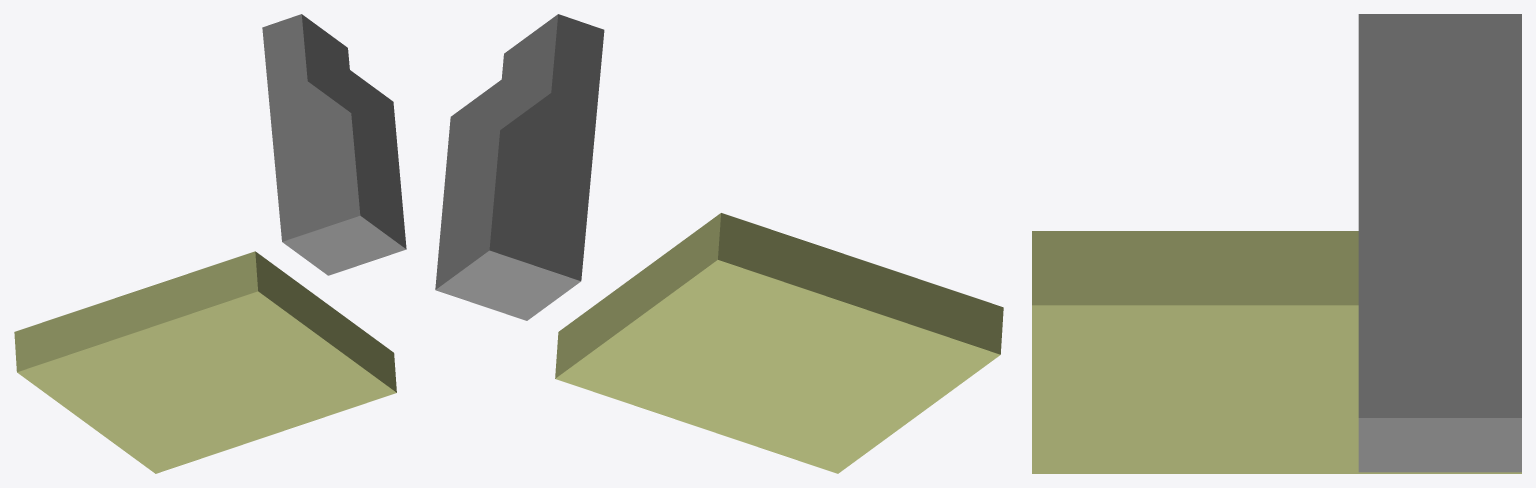
3 renders of one model, left to right at view 1: azimuth 30°, elevation 25°; view 2: azimuth 150°, elevation 25°; view 3: azimuth 270°, elevation 25°, orthographic. The views are drawn at different scales.
Parts seen in each view (by area): view 1: 0_2_3_3_3_1_0_2_0_3_0; view 2: 0_2_3_3_3_1_0_2_0_3_0; view 3: 0_2_3_3_3_1_0_2_0_3_0.
Boxes of the visible parts, <box> form: 0_2_3_3_3_1_0_2_0_3_0: <box>14,14,406,473</box>; 0_2_3_3_3_1_0_2_0_3_0: <box>435,14,1003,473</box>; 0_2_3_3_3_1_0_2_0_3_0: <box>1032,14,1521,473</box>.
Size of the model in its own units: 12.95 by 10.33 by 9.
